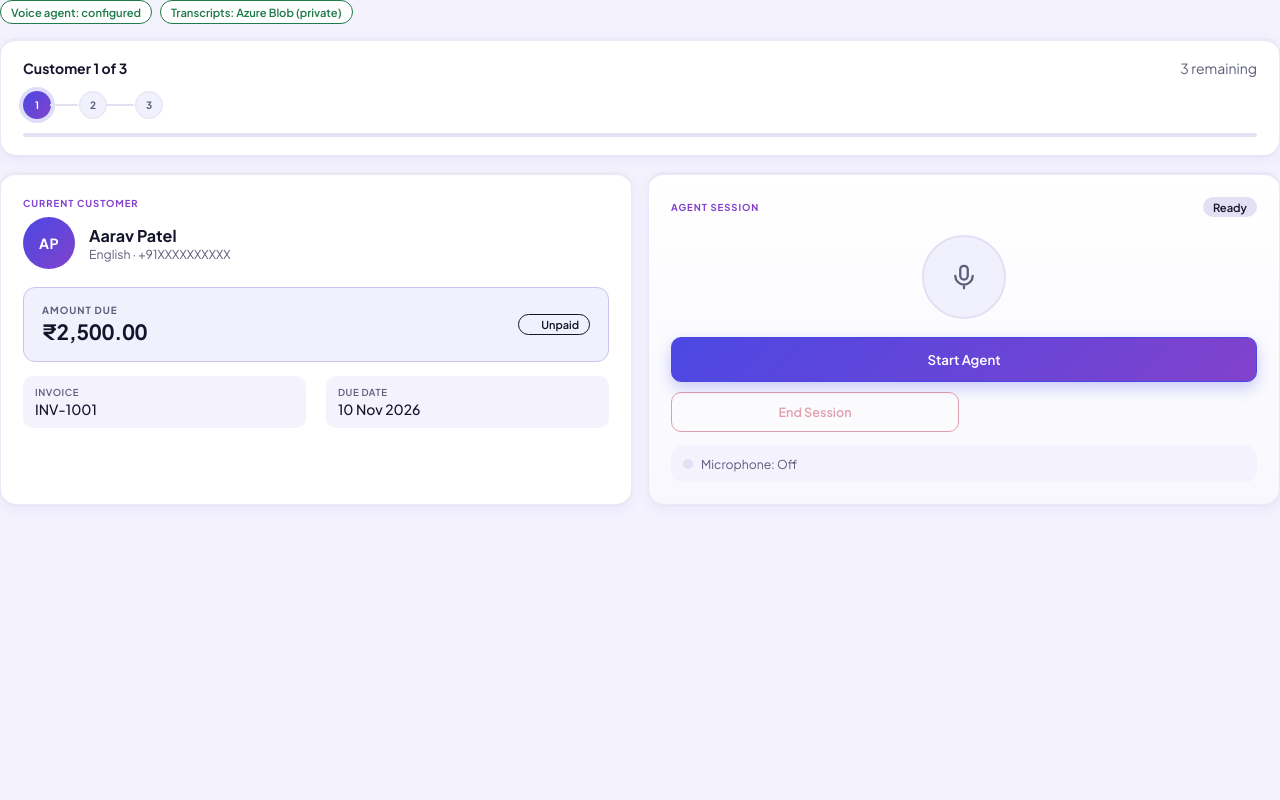
Test: Dashboard › keeps the same customer when the Blob save fails, and Retry save advances
What coordinates should you click on to do the following:
click the button "Start Agent"
I would click on:
 (964, 360)
Its box is [671,337,1257,382].
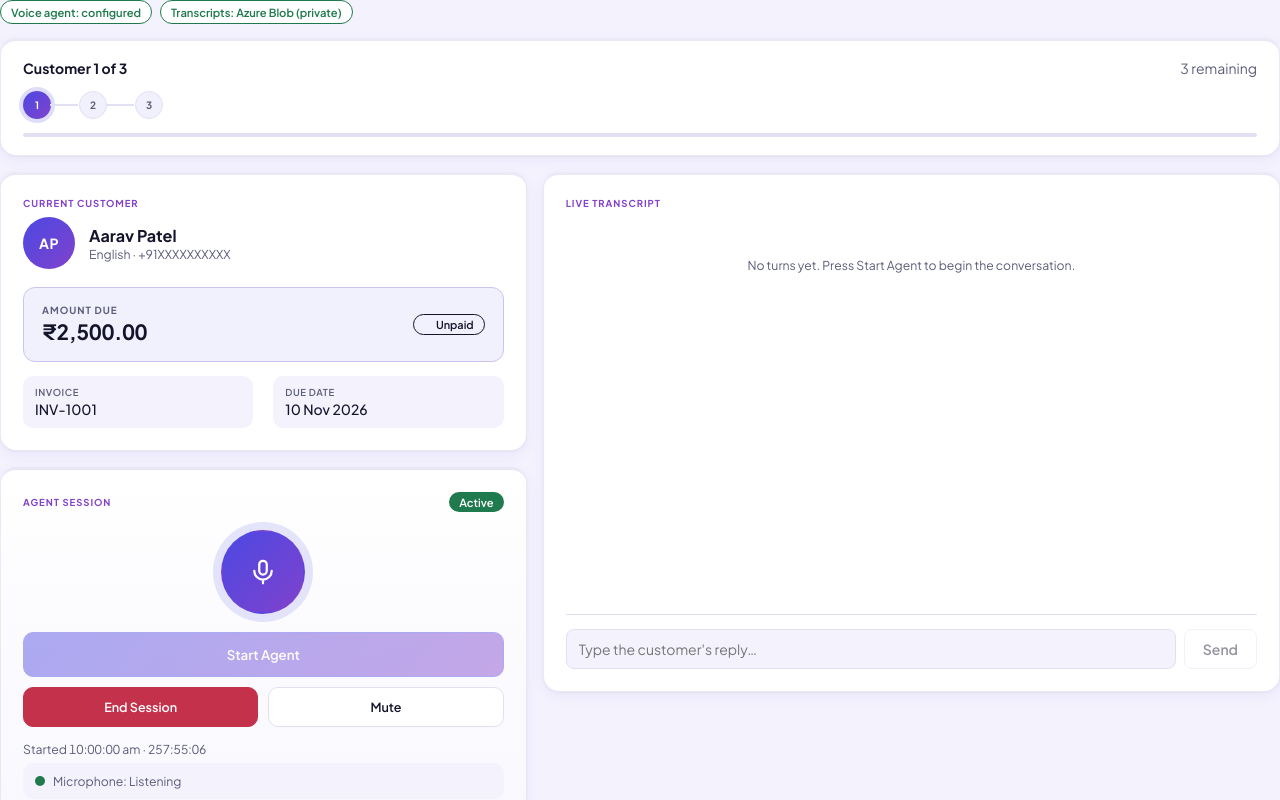
Result: the text "Listening" is shown at [129,773,181,789]
What coordinates should you click on to do the following:
click the button "End Session"
I would click on:
 (141, 707)
Its box is [23,687,258,727].
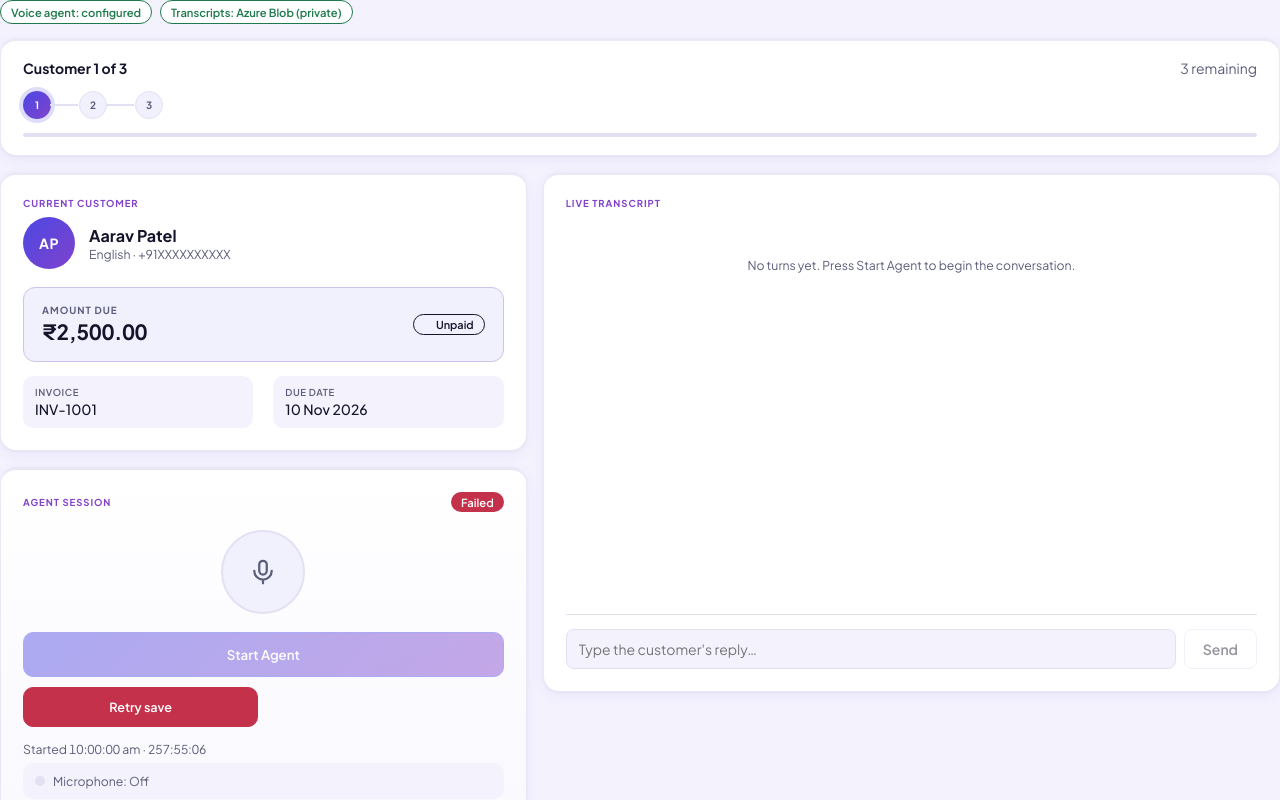
Expected: the text "Customer 1 of 3" is shown, [23,59,127,77]
Result: the button "Start Agent" is disabled at [23,632,504,677]
What coordinates should you click on to do the following:
click the button "Retry save"
I would click on:
 (141, 707)
Its box is [23,687,258,727].
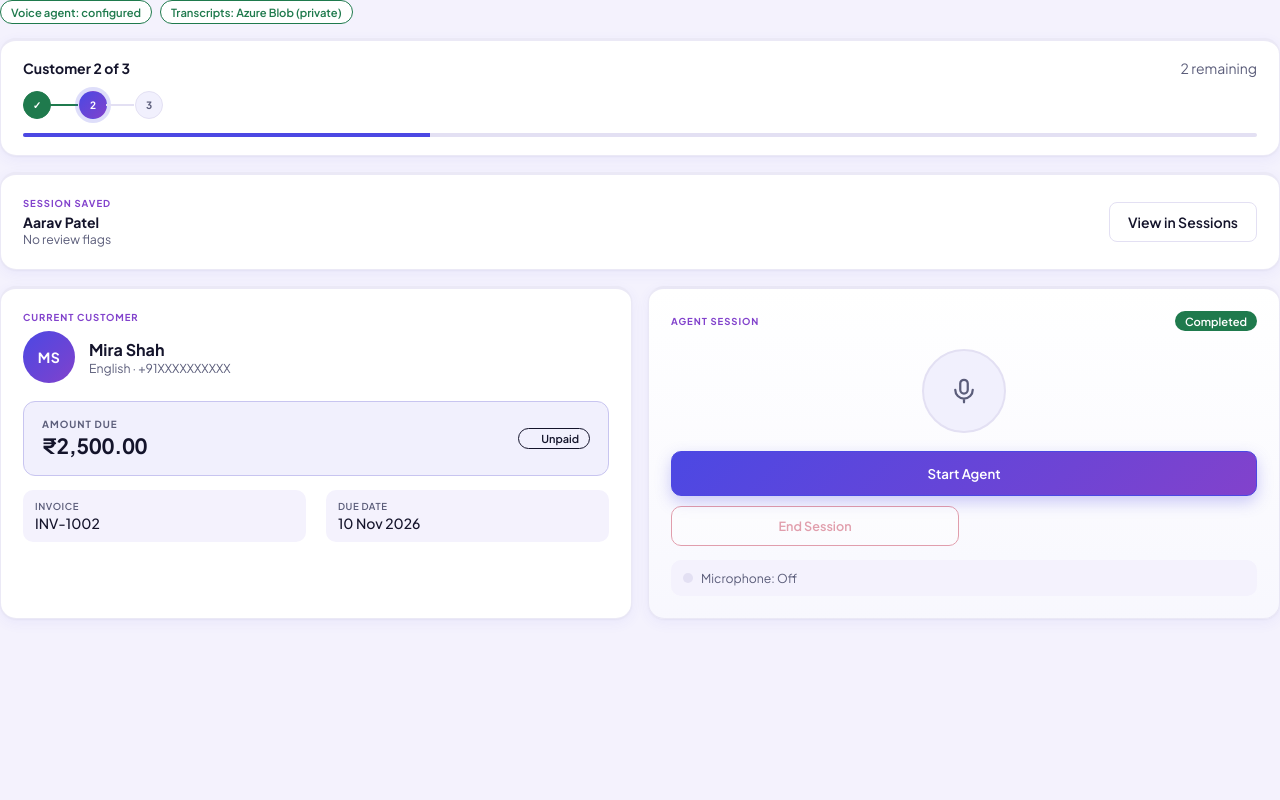
Result: the text "Customer 2 of 3" is shown at [23,59,130,77]
Result: the button "End Session" is disabled at [671,506,959,546]
